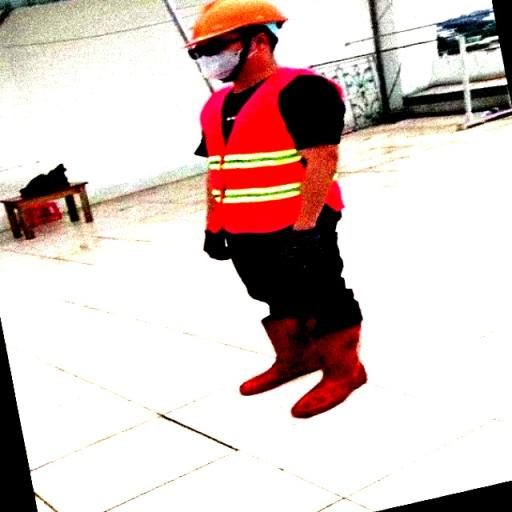Person: (154, 5, 398, 439)
boots: (292, 315, 376, 419), (237, 314, 326, 394)
gloves: (280, 220, 326, 258), (198, 227, 237, 261)
goggles: (186, 35, 248, 62)
helmet: (183, 6, 294, 48)
vest: (202, 65, 340, 248)
